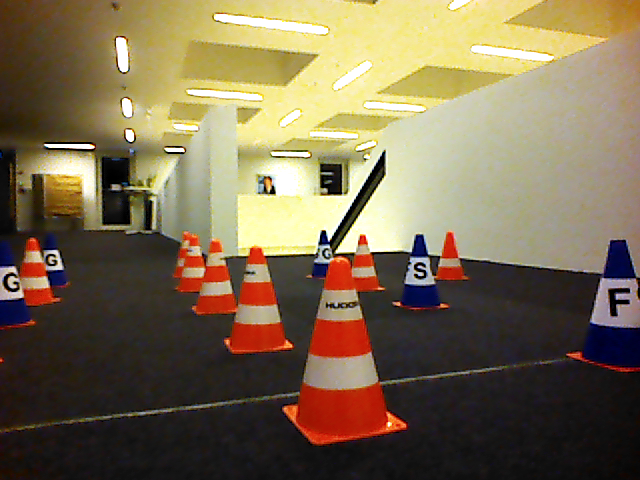bluecone: (569, 240, 640, 374), (393, 233, 450, 312)
orangeconesmall: (228, 244, 291, 355), (198, 238, 237, 315), (356, 234, 388, 290)
